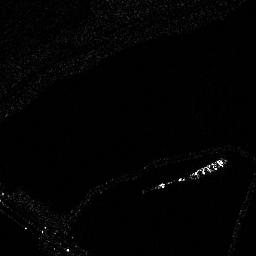ship: (188, 158, 227, 183)
